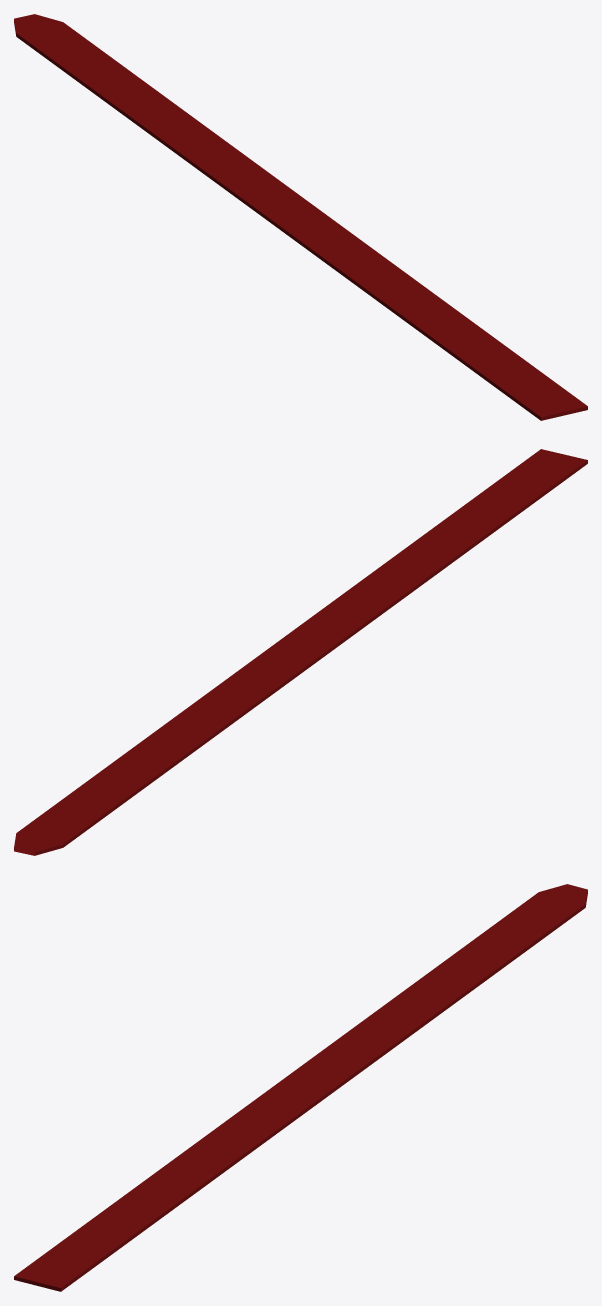
The model's file is Person_7_Weapon_2.FBX.
3 views of the same model, one above another, from view 1: azimuth 30°, elevation 25°; view 2: azimuth 150°, elevation 25°; view 3: azimuth 330°, elevation 25° (orthographic).
Visible parts, largest first — view 1: Object009; view 2: Object009; view 3: Object009.
Part boxes in pixels (left/top/right/bottom): Object009: left=14, top=14, right=587, bottom=420; Object009: left=14, top=449, right=587, bottom=855; Object009: left=14, top=884, right=587, bottom=1291.
Bounding box in the file's own units: 0.6907 × 0.059 × 13.77.
